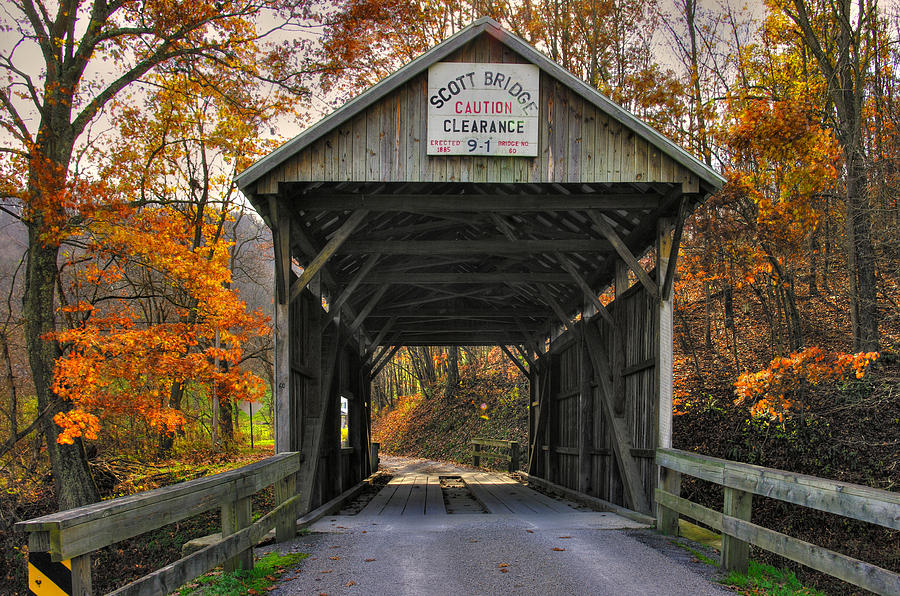bridge: (231, 12, 728, 344)
